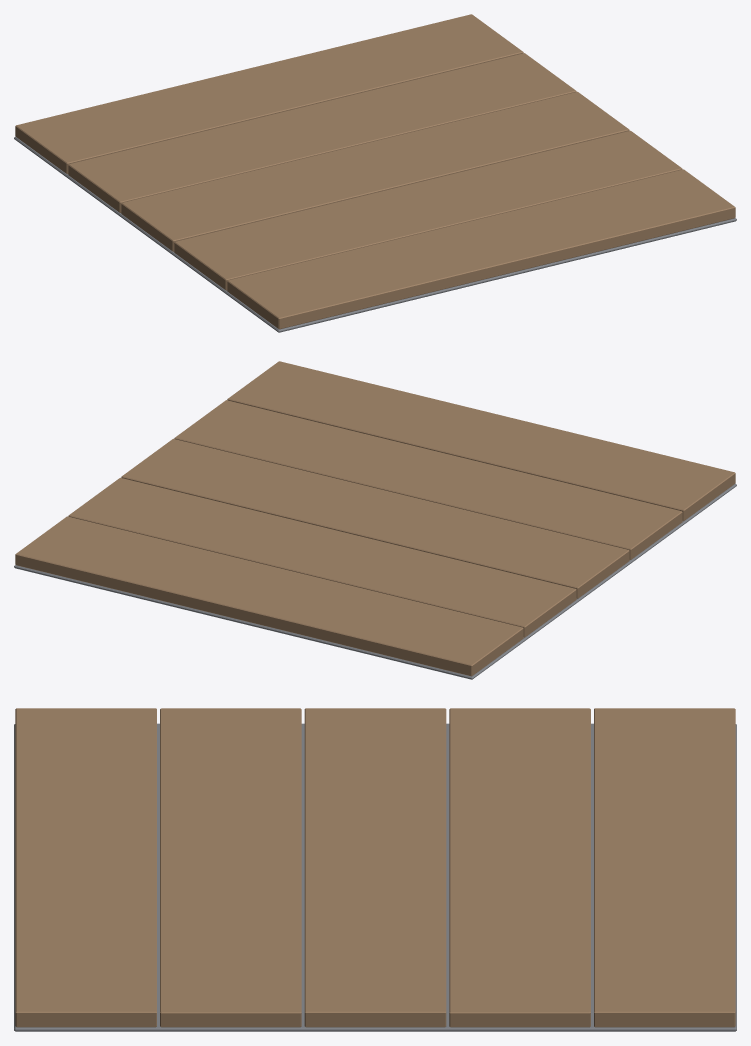
File: room-floor.glb
3 views of the same model, one above another, from view 1: azimuth 30°, elevation 25°; view 2: azimuth 150°, elevation 25°; view 3: azimuth 270°, elevation 25° (orthographic). The views are drawn at different scales.
Parts seen in each view (by area): view 1: studio-floor-module; view 2: studio-floor-module; view 3: studio-floor-module.
Part boxes in pixels (x1,y1,x2,y2): studio-floor-module: (14,14,736,332); studio-floor-module: (14,361,736,679); studio-floor-module: (14,708,736,1031).
Size of the model in its own units: 1 by 0.03 by 1.
